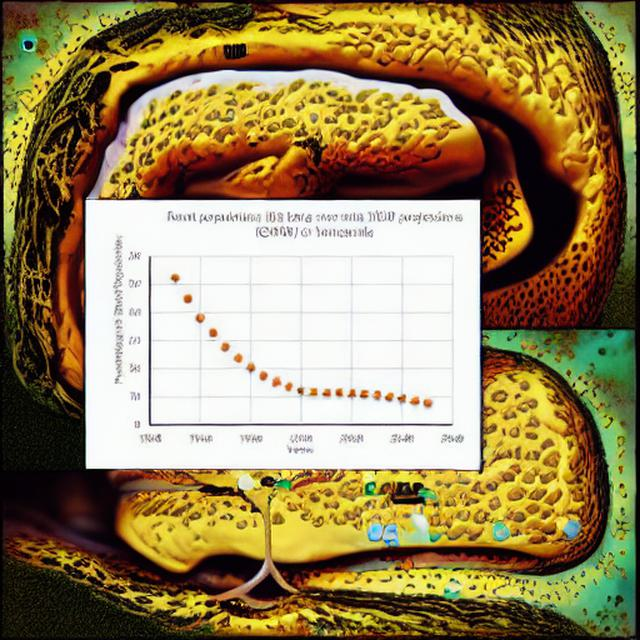Graph: (104, 202, 477, 463)
